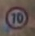limite 70: (4, 5, 28, 28)
